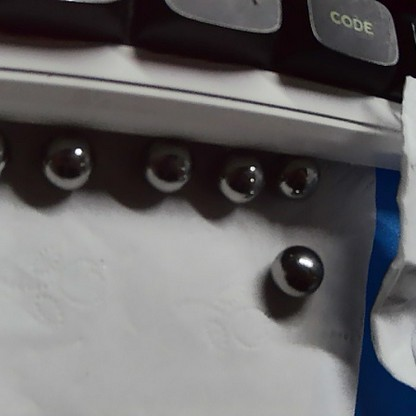ironball: (262, 229, 327, 299), (214, 143, 271, 210), (137, 140, 193, 195), (44, 134, 93, 187), (273, 146, 322, 193)
